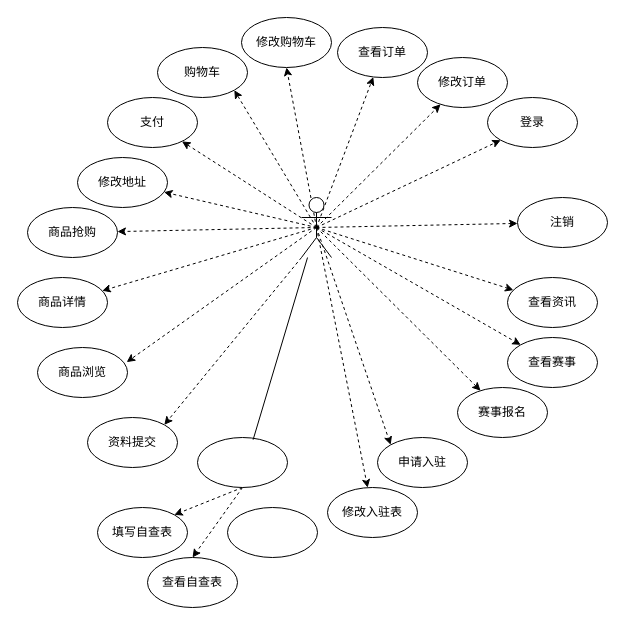
Some shapes in this 625 by 625 pixel diagram are drawn without their labels. Here are the shapes that lost their labels. From the top down, the box of each, then its label:
(300, 196, 332, 258): 学生端
(196, 436, 288, 488): 表格管理
(226, 506, 318, 558): 评分表查看
